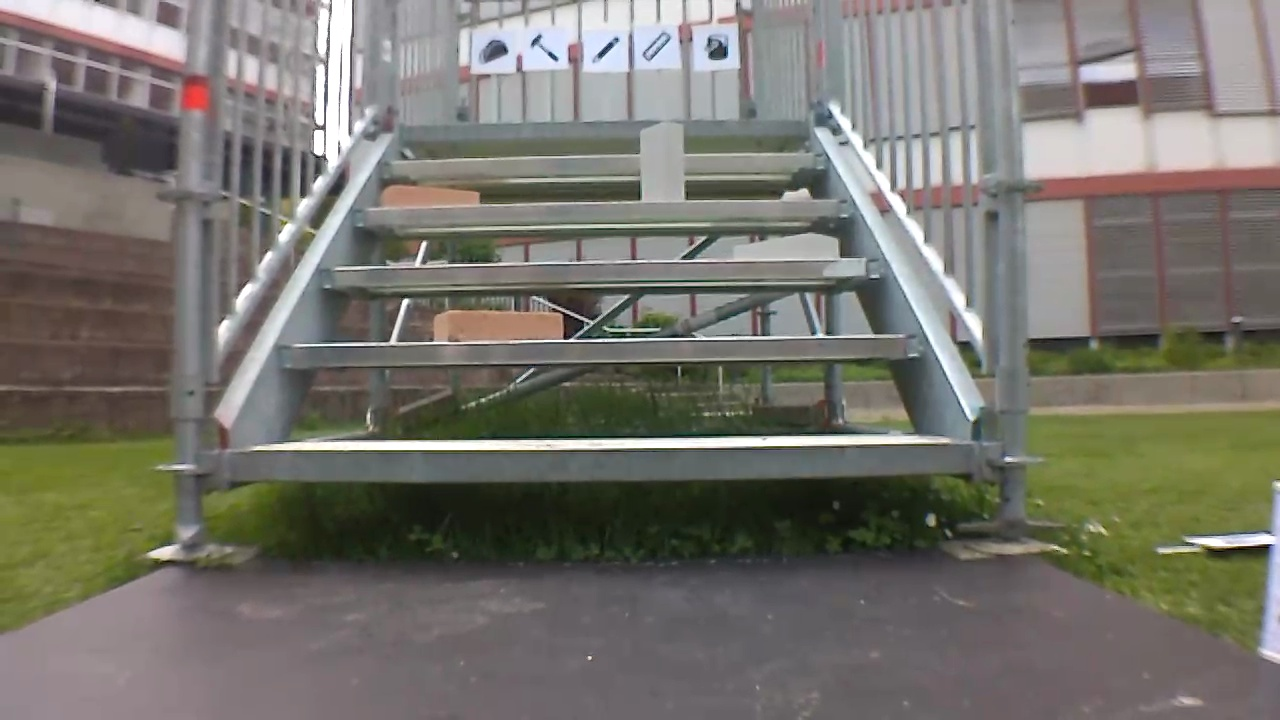brick: (432, 310, 562, 340), (640, 121, 683, 201), (734, 234, 838, 259), (379, 185, 478, 207)
bucket: (698, 29, 735, 62)
edge: (229, 443, 965, 479), (282, 335, 919, 363), (320, 259, 884, 287), (354, 199, 855, 224), (379, 153, 825, 172), (398, 122, 808, 139)
hammer: (525, 29, 561, 65)
pencil: (588, 32, 621, 69)
ruler: (639, 27, 674, 63)
stairs: (165, 3, 1048, 556)
steps: (221, 114, 969, 488)
taco: (474, 36, 511, 65)
